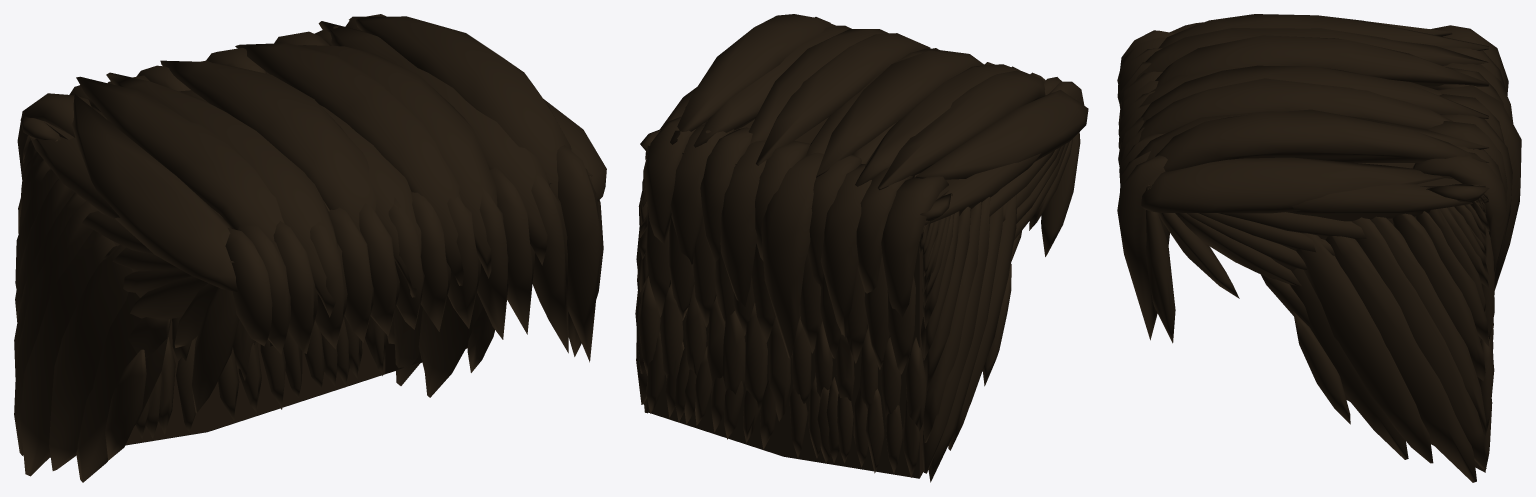
File: Hair.fbx
3 renders of one model, left to right at view 1: azimuth 30°, elevation 25°; view 2: azimuth 150°, elevation 25°; view 3: azimuth 270°, elevation 25°, orthographic. The views are drawn at different scales.
Parts seen in each view (by area): view 1: Hair; view 2: Hair; view 3: Hair.
Boxes of the visible parts, box(x1,y1,x2,y2) form: Hair: box(14, 14, 606, 482); Hair: box(635, 14, 1088, 482); Hair: box(1117, 14, 1521, 482).
Bounding box in the file's own units: 245 × 233 × 241.
